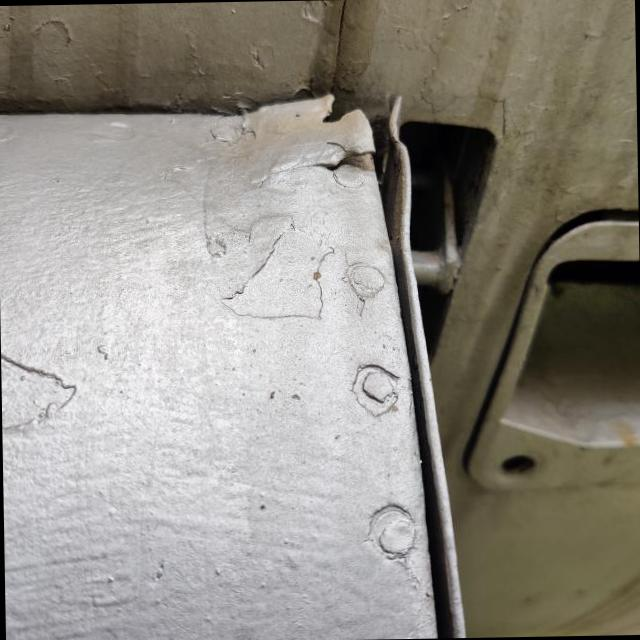Crack: (303, 142, 371, 186)
